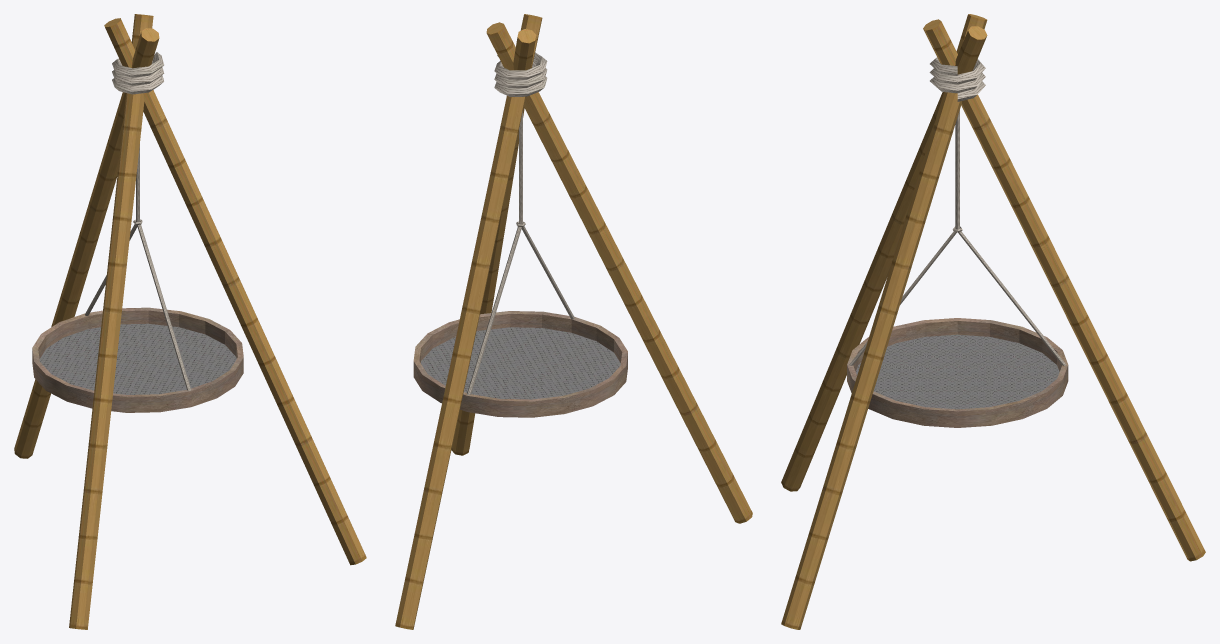
Rendered from sieve.glb.
3 renders of one model, left to right at view 1: azimuth 30°, elevation 25°; view 2: azimuth 150°, elevation 25°; view 3: azimuth 270°, elevation 25°, orthographic. The views are drawn at different scales.
Visible parts, largest first — view 1: bambu03_Peneira_0, bambu02_Peneira_0, malhapeneira_Peneira_0, lateralpeneira_Peneira_0, bambu01_Peneira_0, amarracaobambu_Peneira_0, barbante02_Peneira_0; view 2: bambu01_Peneira_0, bambu03_Peneira_0, malhapeneira_Peneira_0, lateralpeneira_Peneira_0, bambu02_Peneira_0, amarracaobambu_Peneira_0, barbante03_Peneira_0; view 3: bambu02_Peneira_0, bambu01_Peneira_0, malhapeneira_Peneira_0, bambu03_Peneira_0, lateralpeneira_Peneira_0, amarracaobambu_Peneira_0, barbante03_Peneira_0.
Part boxes in pixels (<box>): bambu03_Peneira_0: <box>69,14,153,629</box>; bambu02_Peneira_0: <box>104,18,366,565</box>; malhapeneira_Peneira_0: <box>39,323,236,394</box>; lateralpeneira_Peneira_0: <box>32,307,243,412</box>; bambu01_Peneira_0: <box>14,28,159,458</box>; amarracaobambu_Peneira_0: <box>112,52,164,94</box>; barbante02_Peneira_0: <box>137,224,191,390</box>; bambu01_Peneira_0: <box>395,14,542,629</box>; bambu03_Peneira_0: <box>486,22,752,523</box>; malhapeneira_Peneira_0: <box>421,327,620,399</box>; lateralpeneira_Peneira_0: <box>413,311,627,417</box>; bambu02_Peneira_0: <box>451,29,536,455</box>; amarracaobambu_Peneira_0: <box>494,52,547,96</box>; barbante03_Peneira_0: <box>467,226,521,395</box>; bambu02_Peneira_0: <box>781,14,987,629</box>; bambu01_Peneira_0: <box>923,19,1205,561</box>; malhapeneira_Peneira_0: <box>856,334,1059,409</box>; bambu03_Peneira_0: <box>781,26,987,491</box>; lateralpeneira_Peneira_0: <box>847,318,1068,427</box>; amarracaobambu_Peneira_0: <box>929,57,985,101</box>; barbante03_Peneira_0: <box>958,231,1065,365</box>.
Bounding box in the file's own units: 12.6 × 21.05 × 15.05.
Materials: 1 (1 with a texture image).
